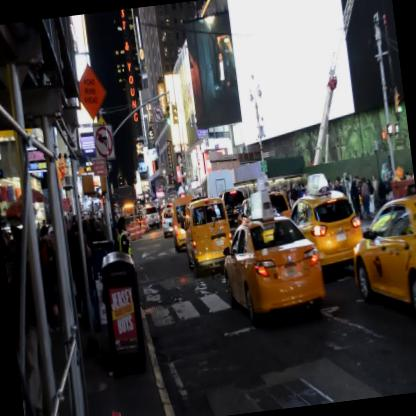car: (218, 210, 327, 326), (344, 193, 415, 333), (289, 188, 367, 275), (180, 195, 236, 278)
